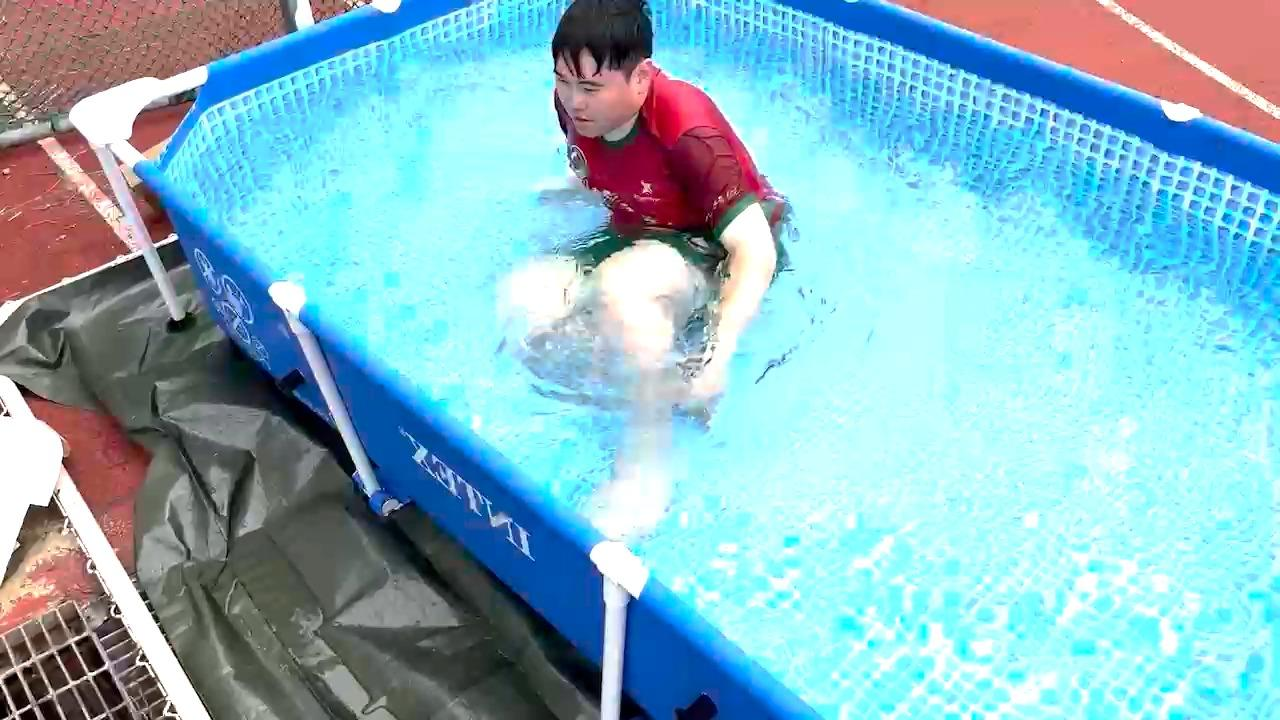Swimming: (471, 0, 879, 407)
